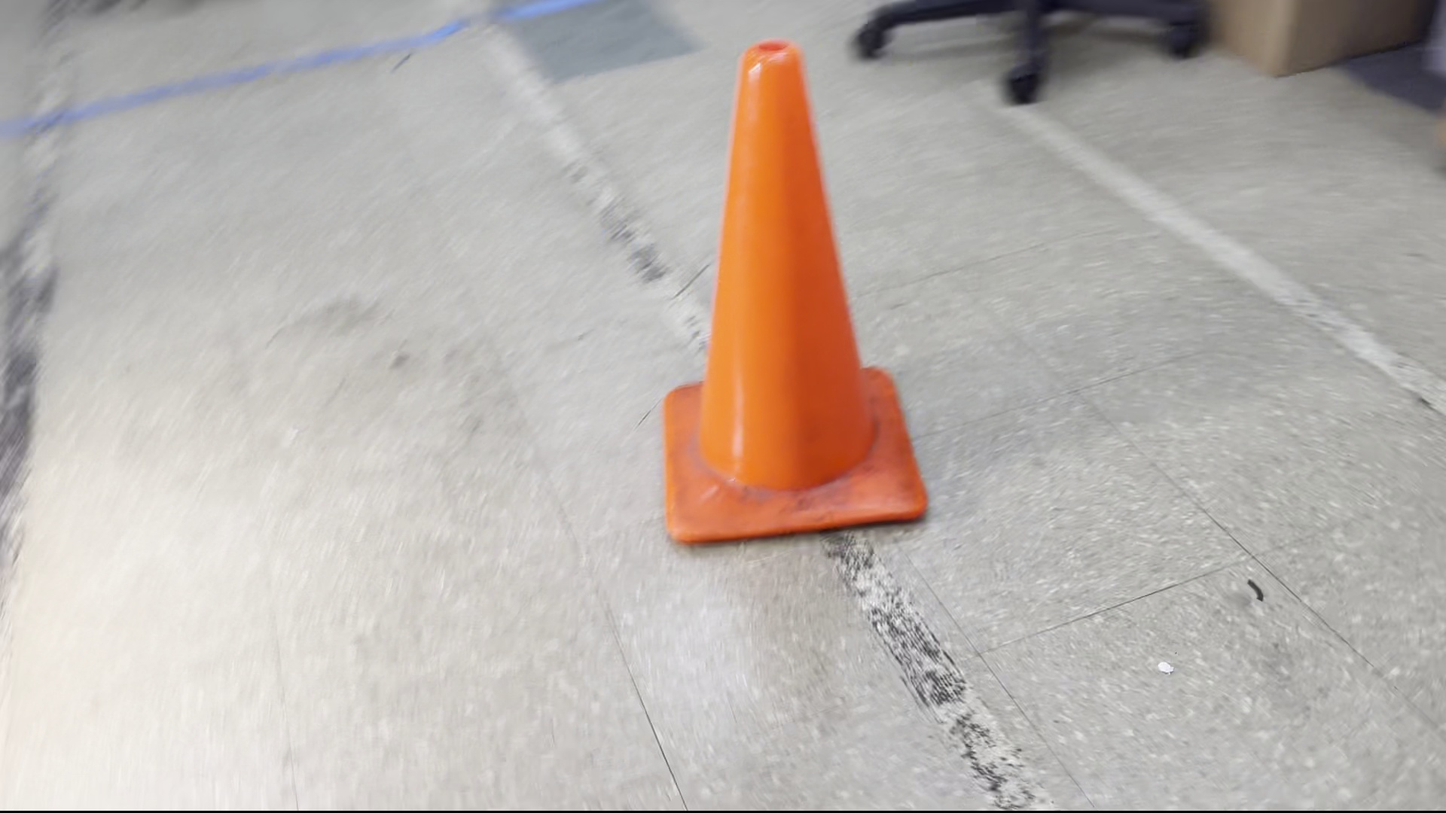traffic_cone: (661, 38, 929, 545)
